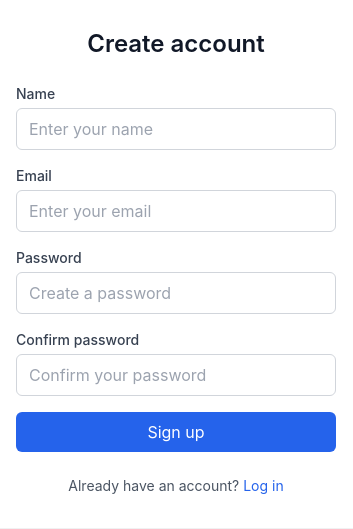
Test: Signup › shows validation error when submitting empty form
Click the button "Sign up" at (176, 432), box left=16, top=412, right=336, bottom=452
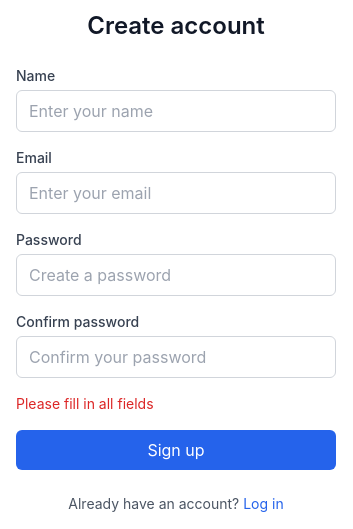
Expected: the text "Please fill in all fields" is shown, left=16, top=395, right=154, bottom=412
